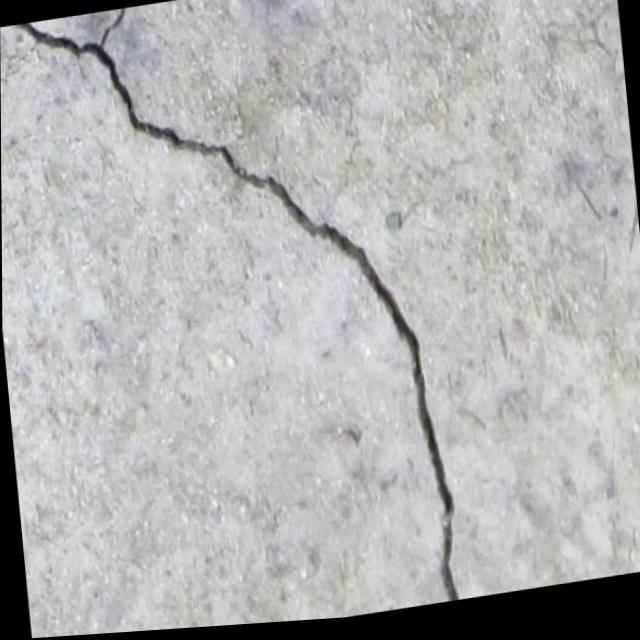Crack: (10, 0, 471, 639)
